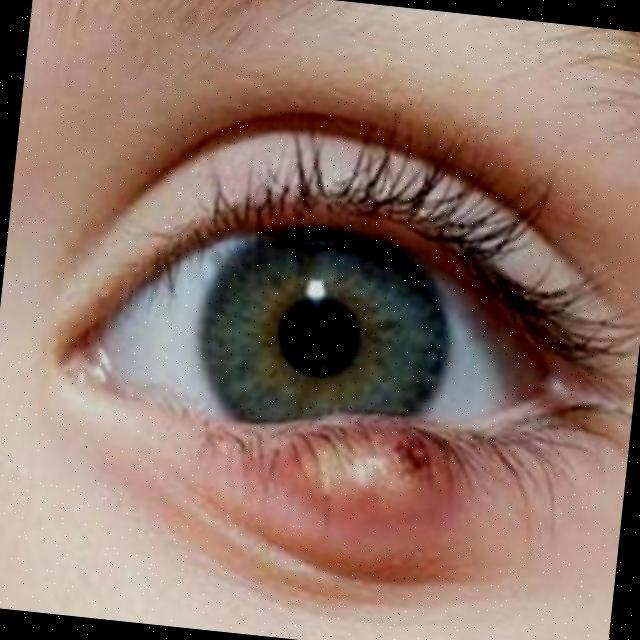Stye: (227, 354, 528, 574)
